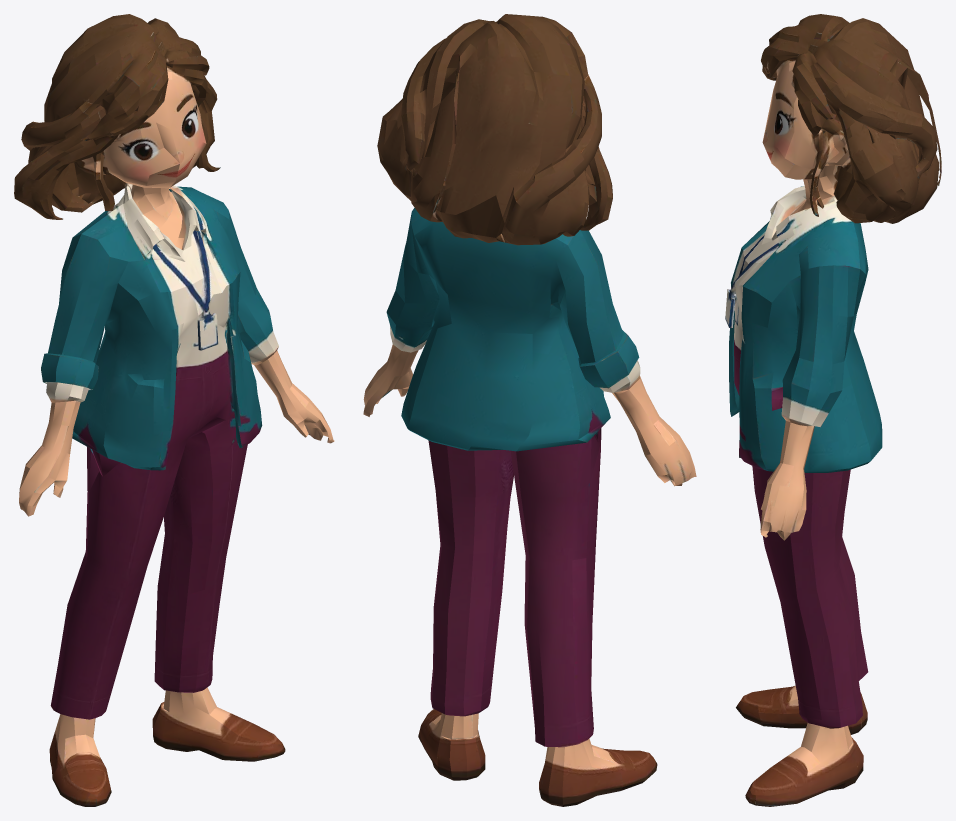
Rendered from ogretmen.glb.
The picture shows the model from 3 angles, left to right: view 1: azimuth 30°, elevation 25°; view 2: azimuth 150°, elevation 25°; view 3: azimuth 270°, elevation 25°; orthographic projection. The views are drawn at different scales.
Visible parts, largest first — view 1: Mesh0; view 2: Mesh0; view 3: Mesh0.
Boxes of the visible parts, bbox=[...] form: Mesh0: bbox=[14, 14, 334, 806]; Mesh0: bbox=[363, 14, 696, 806]; Mesh0: bbox=[725, 14, 941, 806].
Bounding box in the file's own units: 0.8411 × 1.9 × 0.5058.
Materials: 1 (1 with a texture image).
